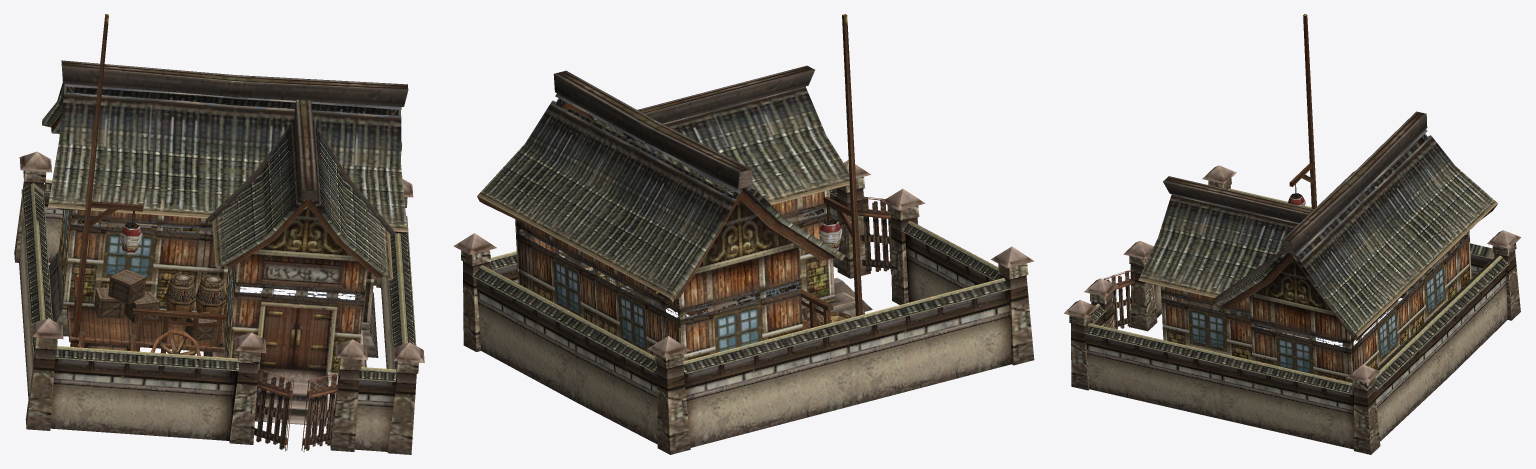
File: japan_consulate.fbx
3 views of the same model, side by side, from view 1: azimuth 30°, elevation 25°; view 2: azimuth 150°, elevation 25°; view 3: azimuth 270°, elevation 25° (orthographic). The views are drawn at different scales.
Parts seen in each view (by area): view 1: Object01, Object03, Object02; view 2: Object03, Object01, Object02; view 3: Object03, Object01.
Part boxes in pixels (x1,y1,x2,y2): Object01: (14,14,424,454); Object03: (19,82,401,451); Object02: (94,211,225,355); Object03: (476,86,1011,447); Object01: (453,14,1034,454); Object02: (728,203,850,326); Object03: (1085,129,1507,449); Object01: (1064,14,1520,454).
Bounding box in the file's own units: 11.2 × 11.37 × 8.42.
2 materials, 2 textured.
